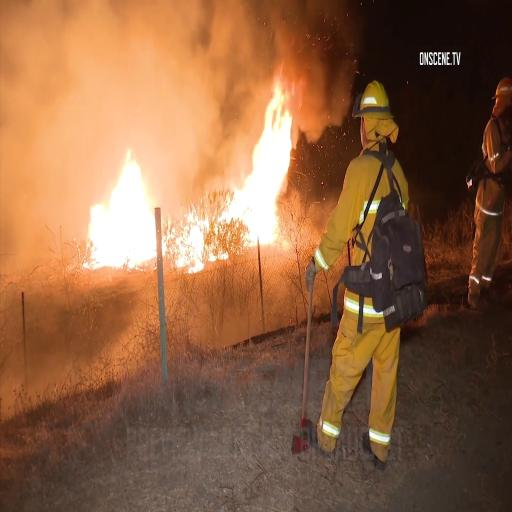fire: (223, 66, 304, 254), (89, 151, 162, 264)
